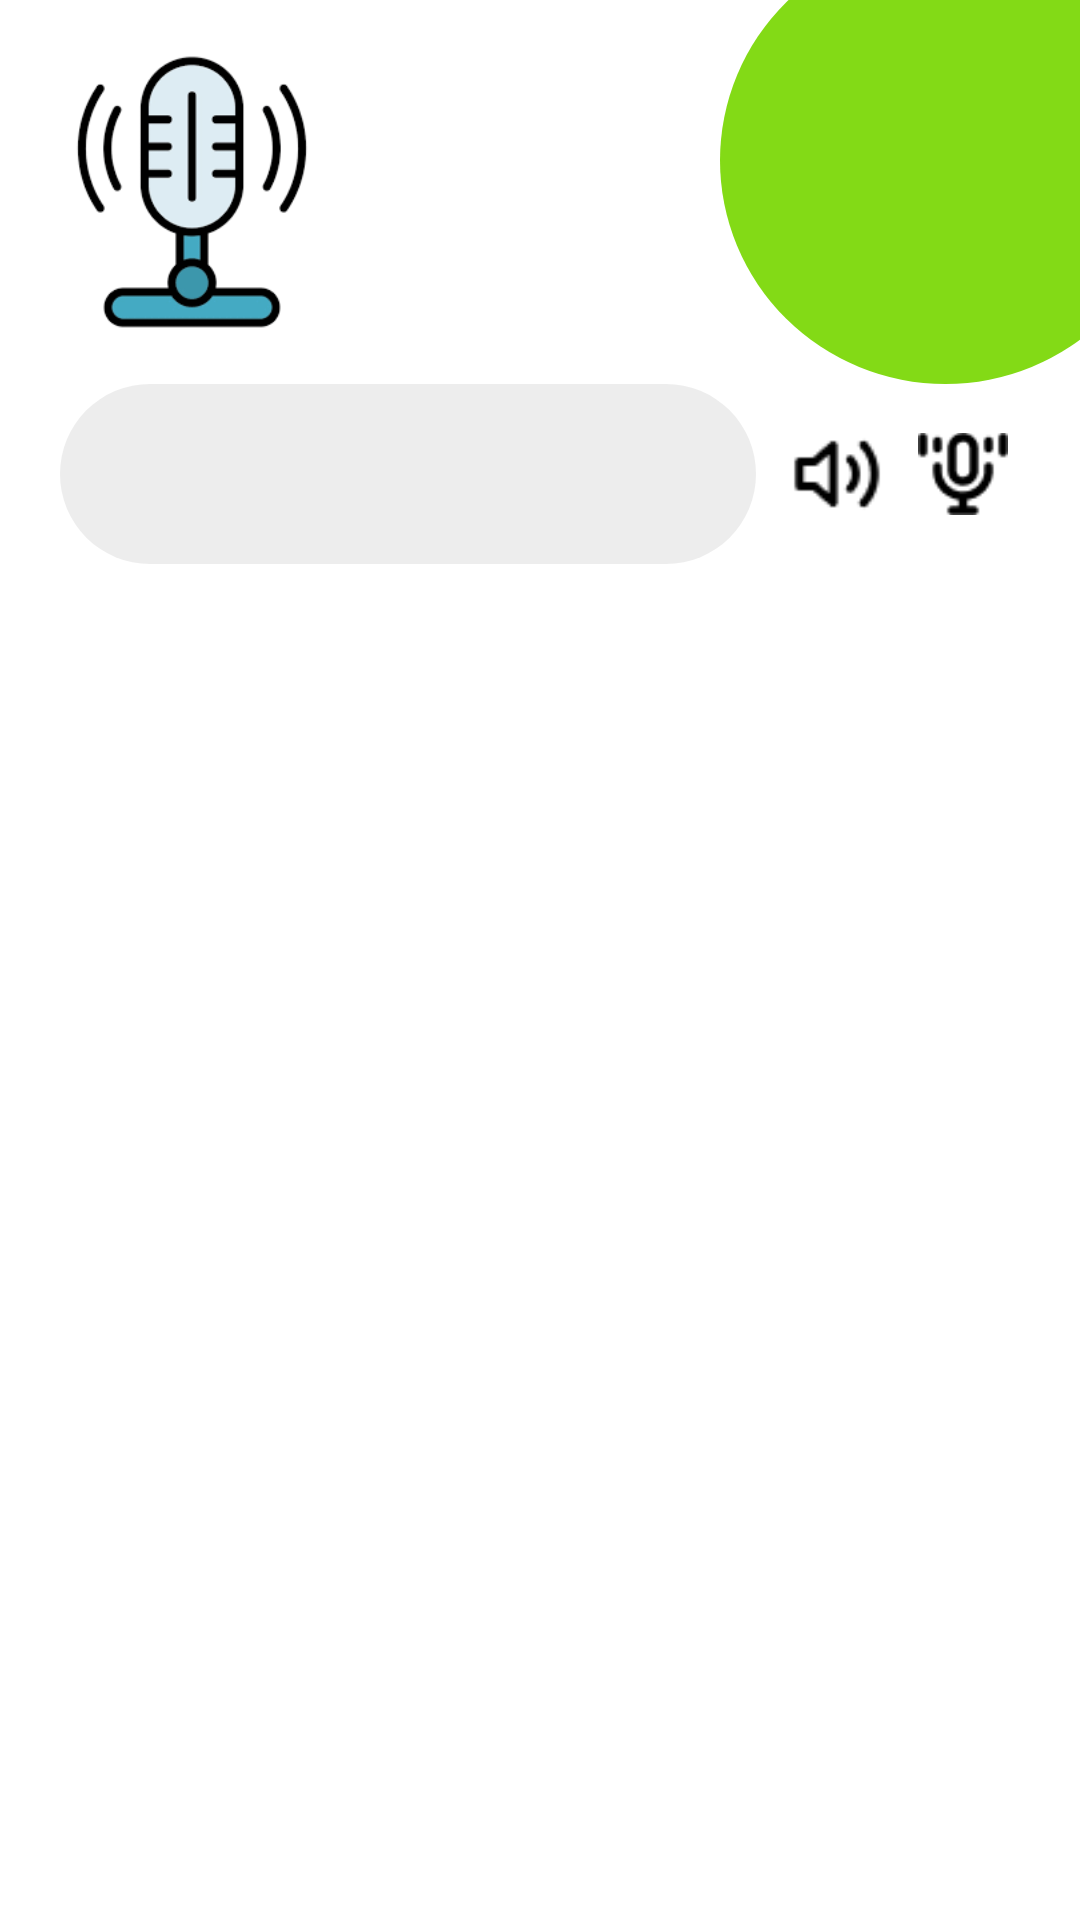

Where icons sit on this 1080w x 1920h app screen, as [x1, y1, x2, y2]:
mic: [918, 433, 1008, 515]
